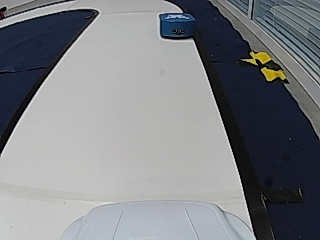prop: (159, 13, 196, 40)
